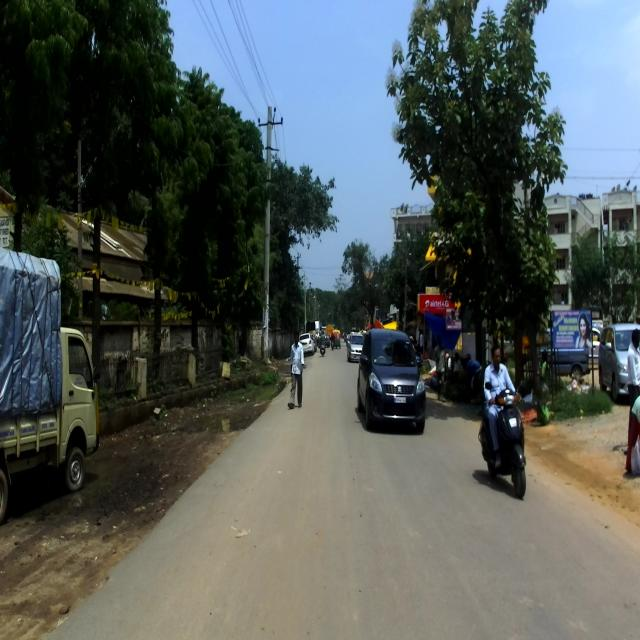Car_Maruti-Suzuki: (357, 328, 426, 432)
scooter: (477, 378, 527, 498)
truck: (0, 246, 100, 525)
